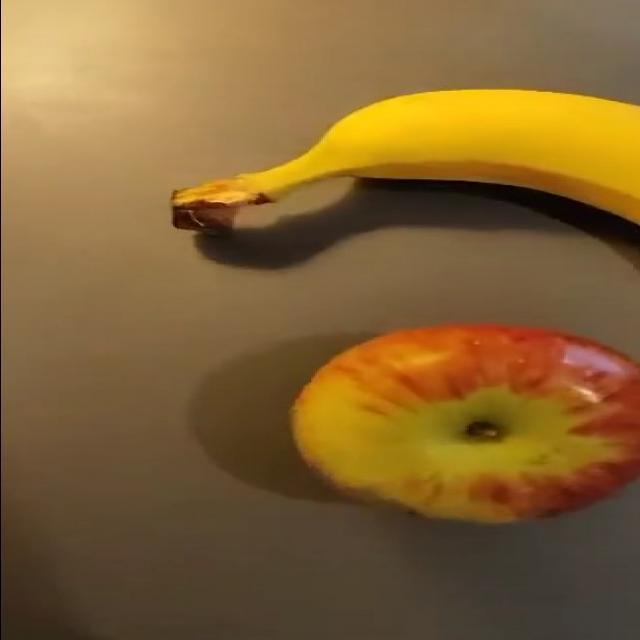Apple: (289, 322, 639, 525)
Banana: (169, 86, 639, 238)
